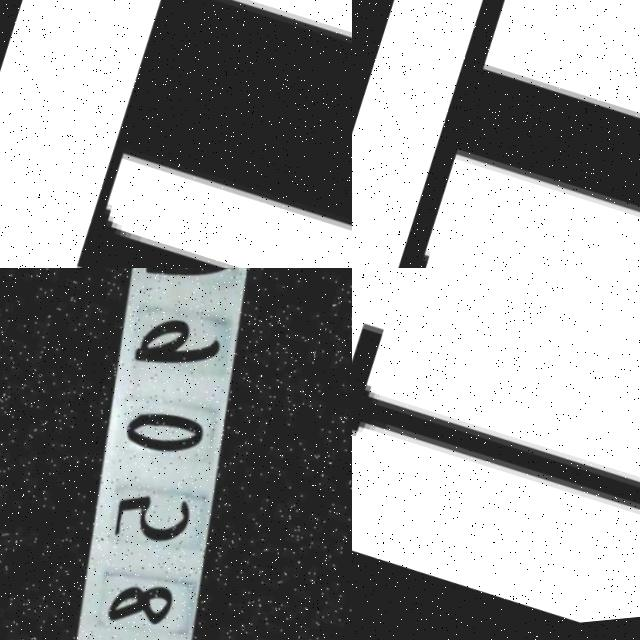0: (98, 381, 219, 488)
5: (83, 465, 206, 577)
8: (74, 555, 186, 640)
9: (107, 289, 239, 406), (122, 268, 247, 317)
D: (0, 0, 352, 268)
P: (392, 0, 640, 268)
U: (352, 268, 640, 640)
